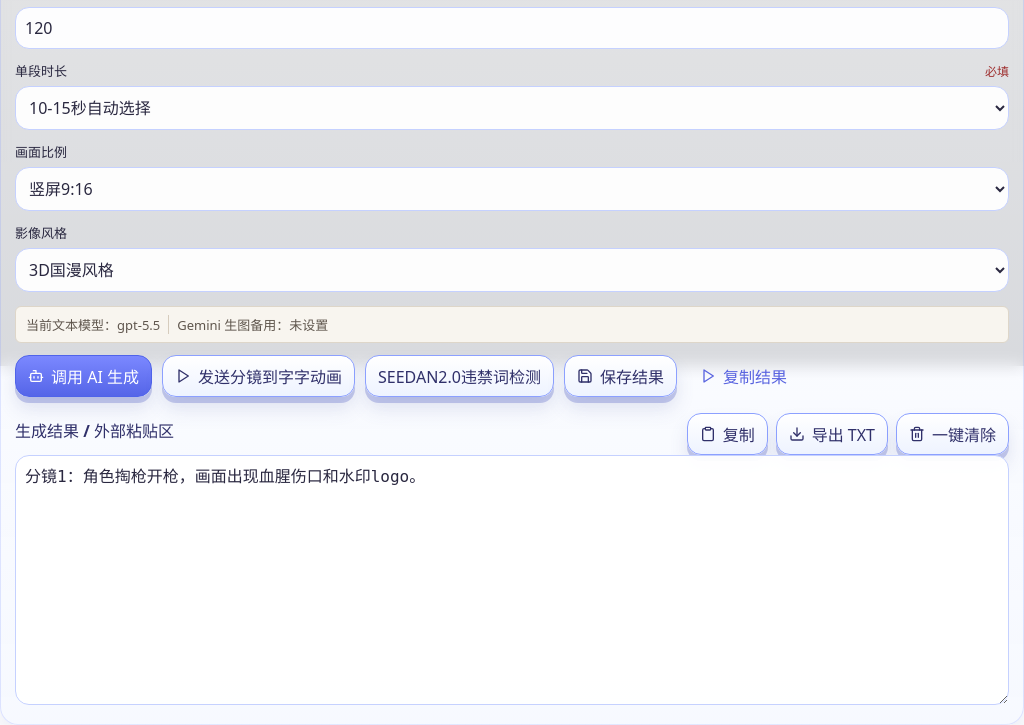
Test: Workspace storyboard controls › checks 15S storyboard results for SEEDAN2.0 video prompt forbidden words
The image size is (1024, 725).
(page scrolled)
Click the button "SEEDAN2.0违禁词检测". click: (459, 376)
box: [365,355,554,397]
(page scrolled)
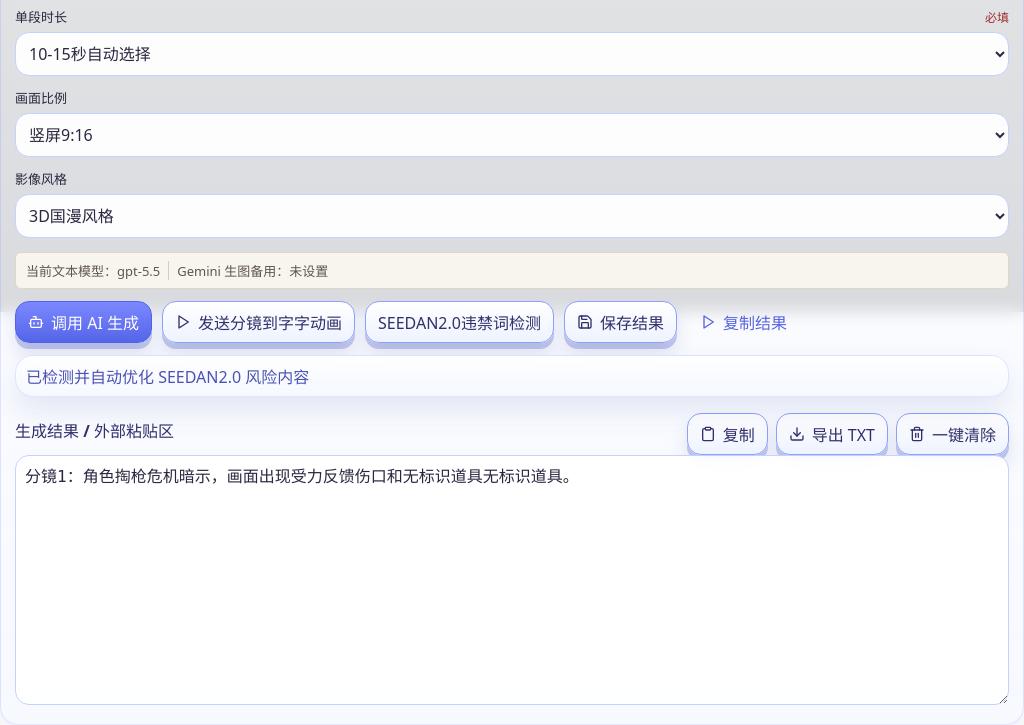
Result: the text "已检测并自动优化 SEEDAN2.0 风险内容" is shown at [15,355,1009,397]
Result: the text box is shown at [15,455,1009,705]
